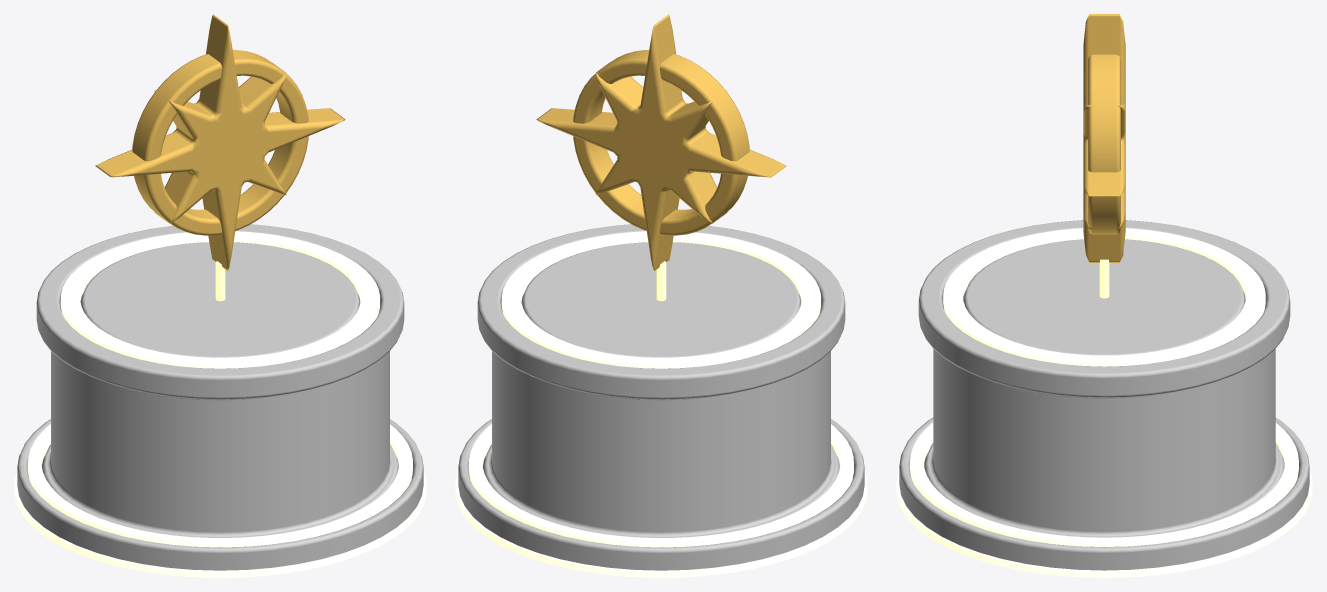
The model's file is Lobby_PED_Sun.fbx.
The picture shows the model from 3 angles, left to right: view 1: azimuth 30°, elevation 25°; view 2: azimuth 150°, elevation 25°; view 3: azimuth 270°, elevation 25°; orthographic projection.
Visible parts, largest first — view 1: Lobby_PED_Sun__PedestalMarble, Lobby_PED_Sun__Glyph_SunGold, Lobby_PED_Sun__PedNeon_Sun; view 2: Lobby_PED_Sun__PedestalMarble, Lobby_PED_Sun__Glyph_SunGold, Lobby_PED_Sun__PedNeon_Sun; view 3: Lobby_PED_Sun__PedestalMarble, Lobby_PED_Sun__PedNeon_Sun, Lobby_PED_Sun__Glyph_SunGold.
Part boxes in pixels (x1,y1,x2,y2): Lobby_PED_Sun__PedestalMarble: (17, 224, 423, 570); Lobby_PED_Sun__Glyph_SunGold: (95, 14, 345, 271); Lobby_PED_Sun__PedNeon_Sun: (14, 231, 426, 577); Lobby_PED_Sun__PedestalMarble: (458, 224, 864, 570); Lobby_PED_Sun__Glyph_SunGold: (536, 14, 786, 271); Lobby_PED_Sun__PedNeon_Sun: (455, 231, 867, 577); Lobby_PED_Sun__PedestalMarble: (899, 220, 1309, 570); Lobby_PED_Sun__PedNeon_Sun: (896, 228, 1312, 577); Lobby_PED_Sun__Glyph_SunGold: (1083, 14, 1125, 262).
Bounding box in the file's own units: 4.26 × 5.39 × 4.26.
